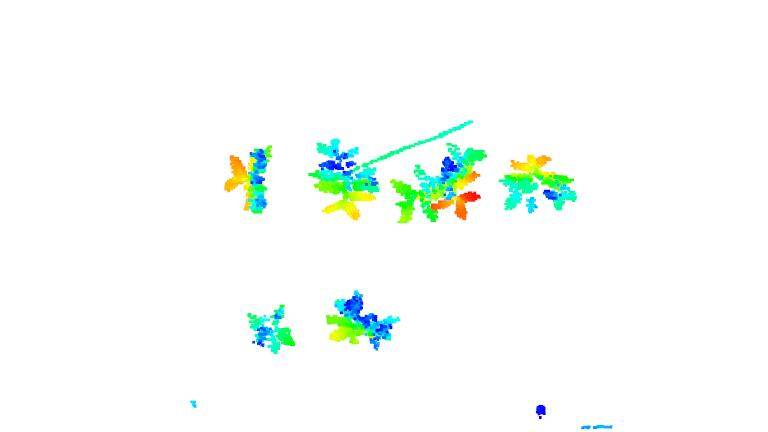chickpea: (393, 141, 489, 227), (311, 137, 381, 218), (322, 289, 400, 352), (501, 156, 577, 214), (222, 144, 280, 215), (247, 301, 298, 359)
